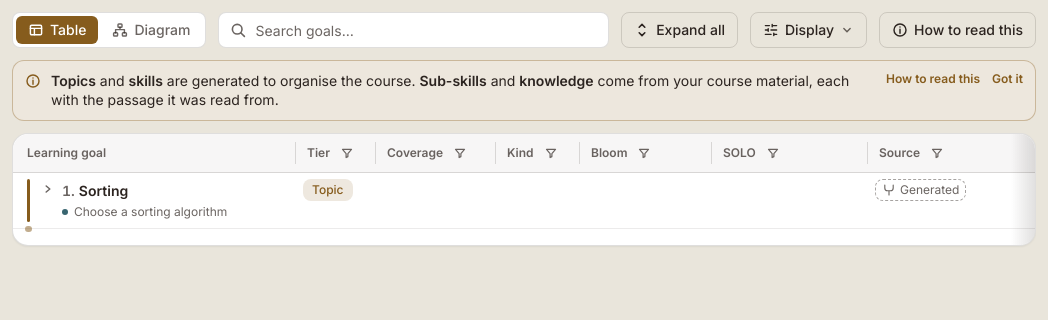
Test case: TopicTree › unfolds a topic into its skills and folds it back
Expected: the text "1 sub-skill" is not shown
What coordinates should you click on to do the following:
click the button named "Expand"
I would click on:
 (48, 188)
Its box is [38,178,58,198].
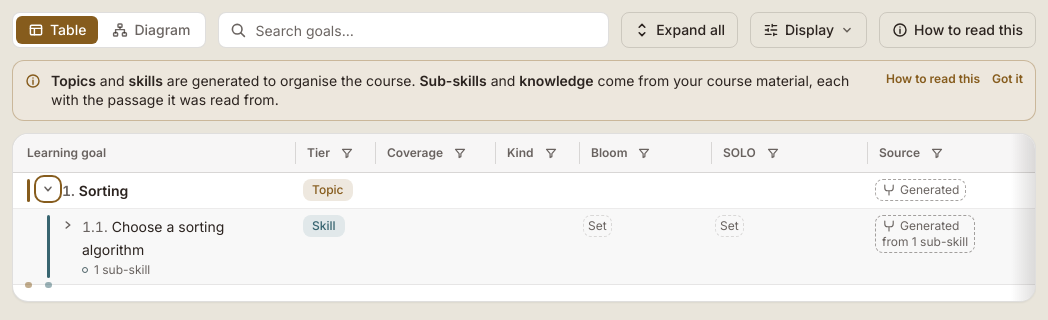
Expected: the button named "Expand" is expanded
Expected: the text "1 sub-skill" is shown, [82,262,150,278]
What coordinates should you click on to do the following:
click the button named "Collapse"
I would click on:
 (48, 188)
Its box is [38,178,58,198].
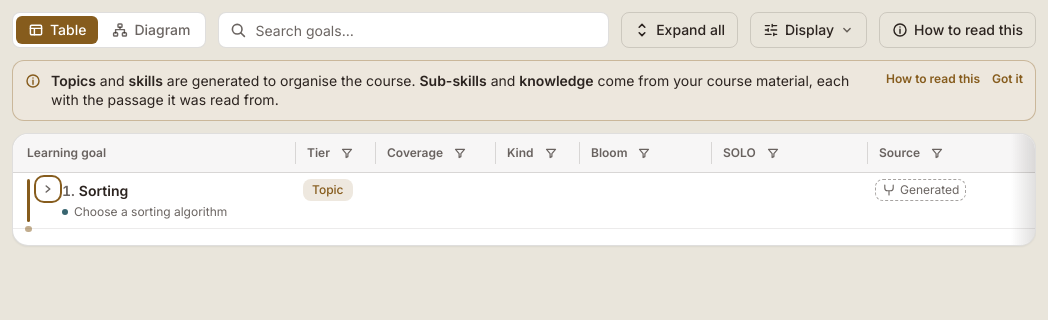
Expected: the button named "Collapse" is collapsed, [38,178,58,198]
Expected: the text "1 sub-skill" is gone
